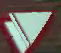Give way: (2, 4, 55, 52)
